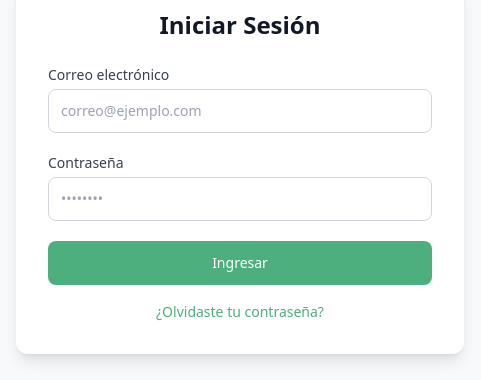
LoginPage › preservation — flujo de login (Property 2) › lockout 429: activa el bloqueo, oculta el formulario y muestra el temporizador
Type "test@example.com" into the field labelled "Correo electrónico" at (240, 110), box [48,88,432,132]
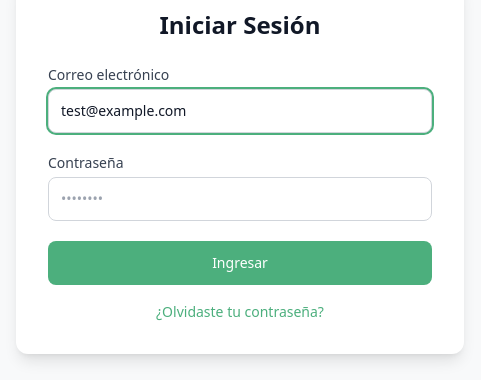
Type "claveCualquiera" into the password field labelled "Contraseña" at (240, 198), box [48,176,432,220]
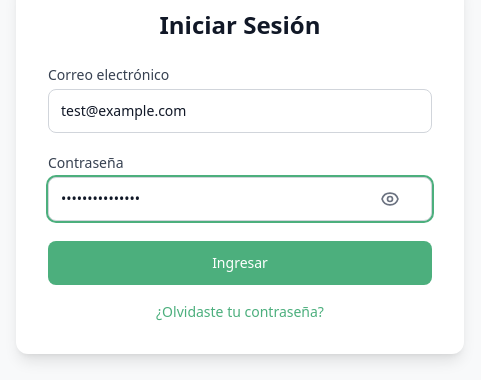
Click the button "Ingresar" at (240, 262), box [48,240,432,284]
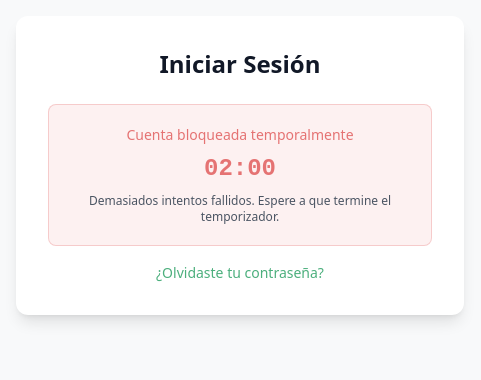
Result: the text "Cuenta bloqueada temporalmente" is shown at [126,124,354,144]
Result: the text "02:00" is shown at [204,154,276,182]
Result: the button "Ingresar" is gone
